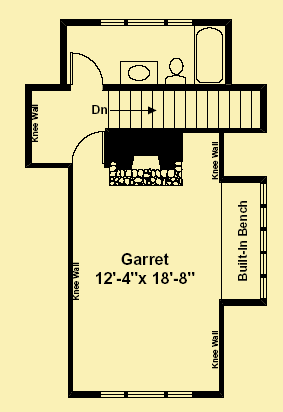door: (69, 49, 107, 89), (71, 129, 104, 168)
large_sink: (162, 55, 189, 84)
small_sink: (117, 59, 160, 85)
stairs: (86, 83, 268, 133)
tub: (191, 24, 228, 86)
windows: (256, 179, 269, 302), (95, 16, 198, 29), (99, 389, 195, 401)
